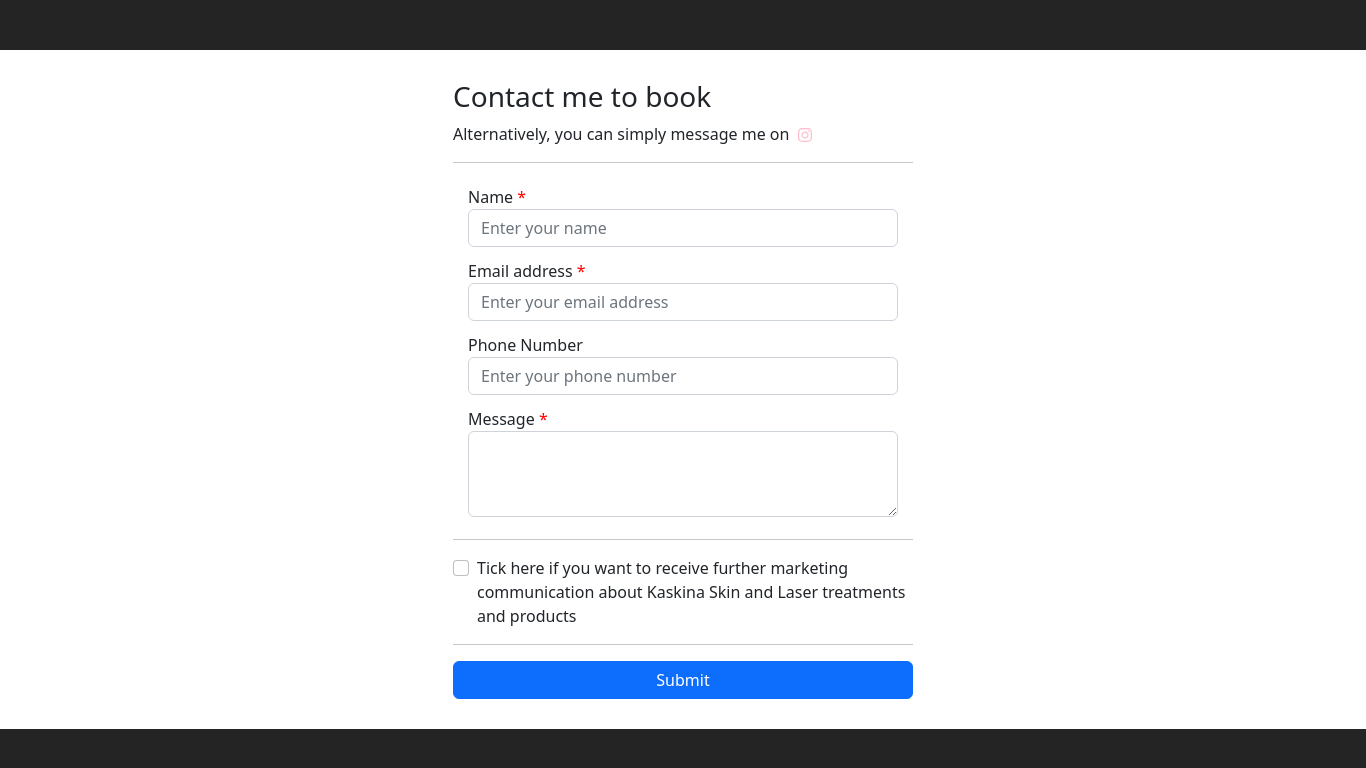
ContactForm › should be able to validate an incorrect phone number
The width and height of the screenshot is (1366, 768).
Type "abcd" into the field with test id "phone-input" at point(683, 376), box [468, 357, 898, 395]
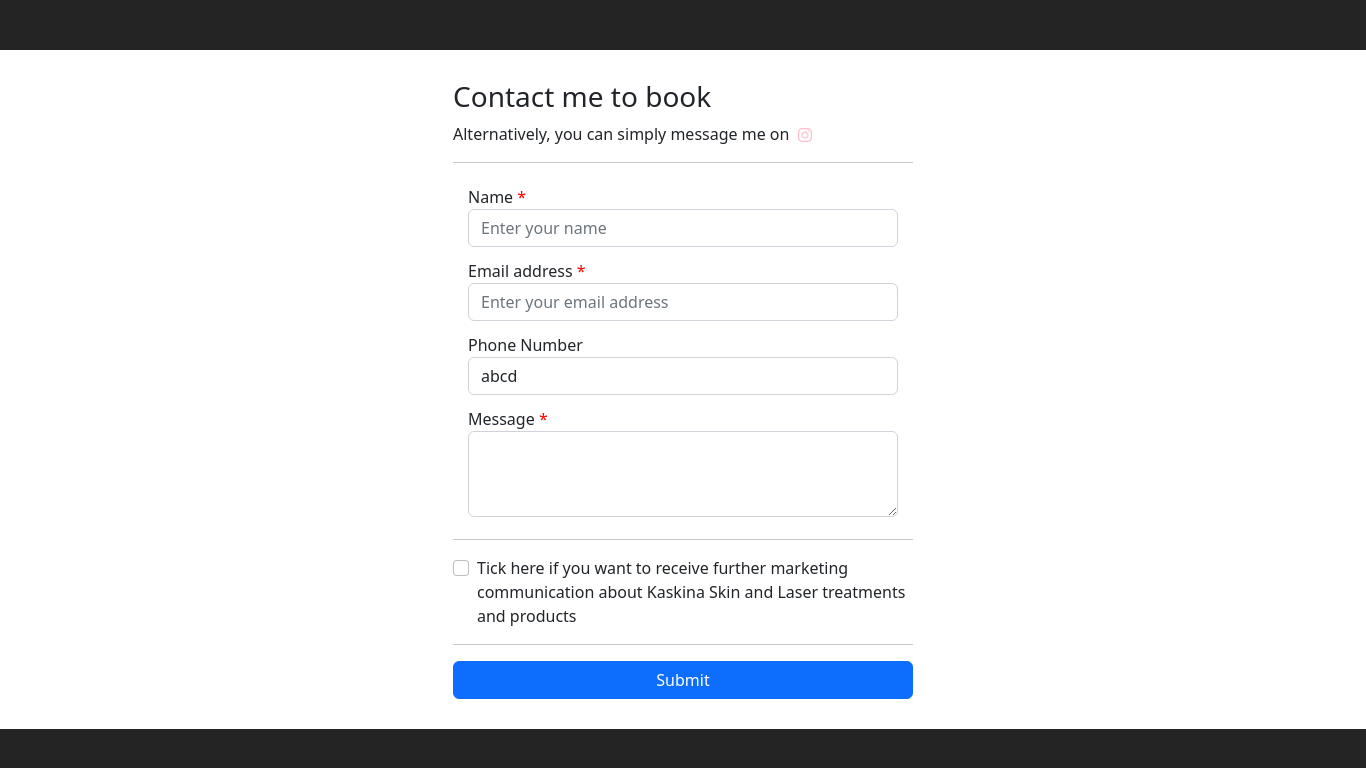
Click the button with test id "submit-button" at point(683, 680), box [453, 661, 913, 699]
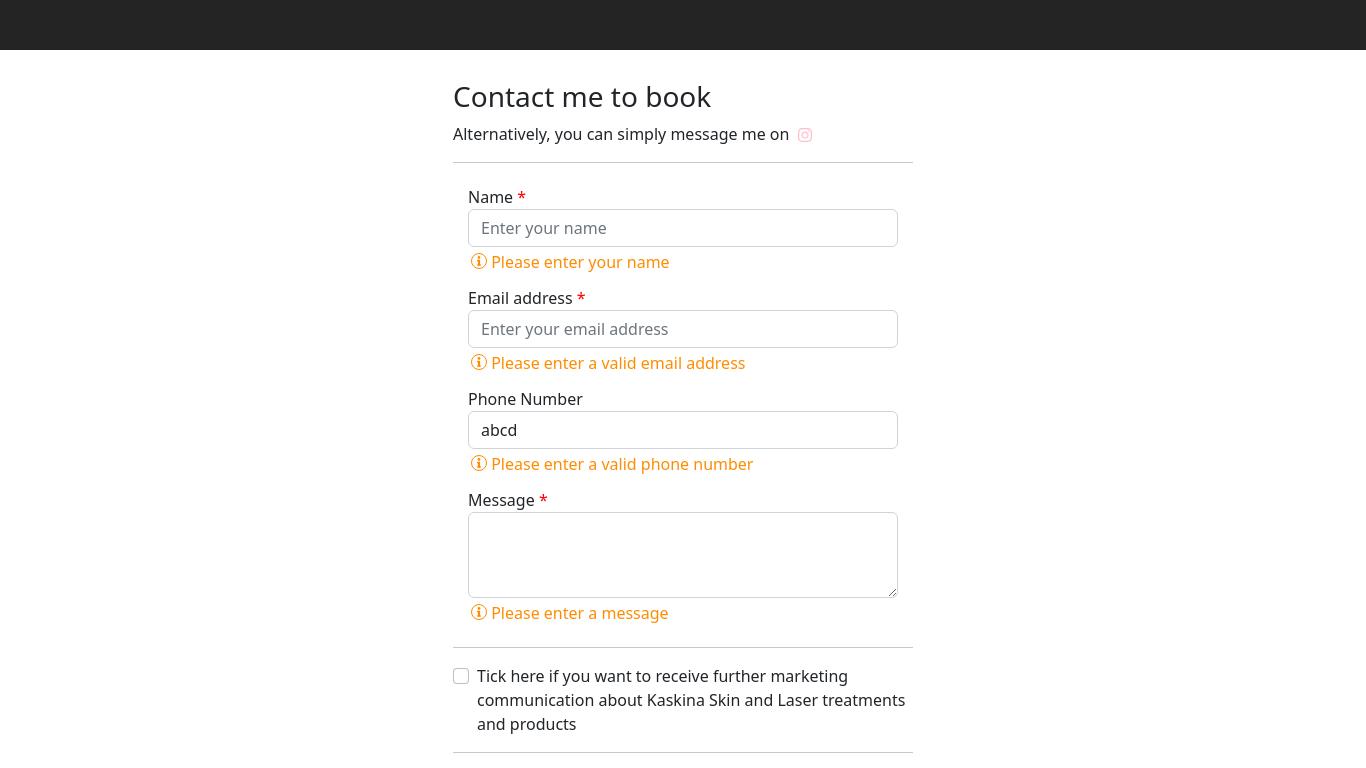
Result: the element with test id "phone-validation" is shown at [471, 453, 754, 475]
